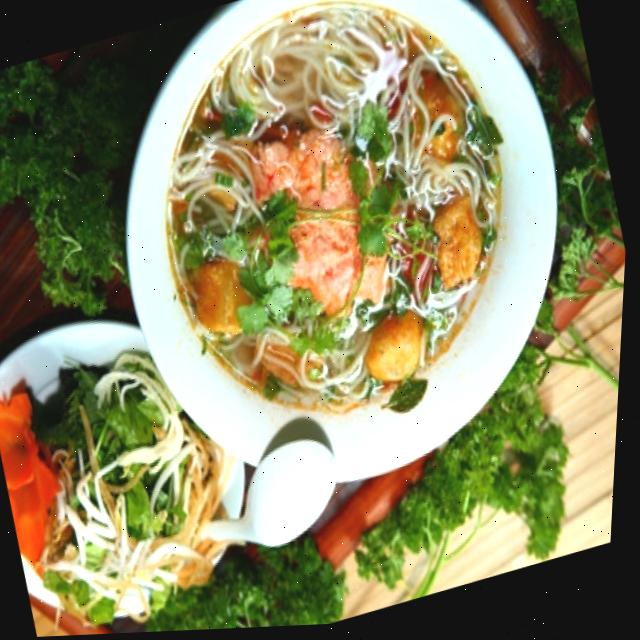面条主食: (58, 0, 640, 548)
